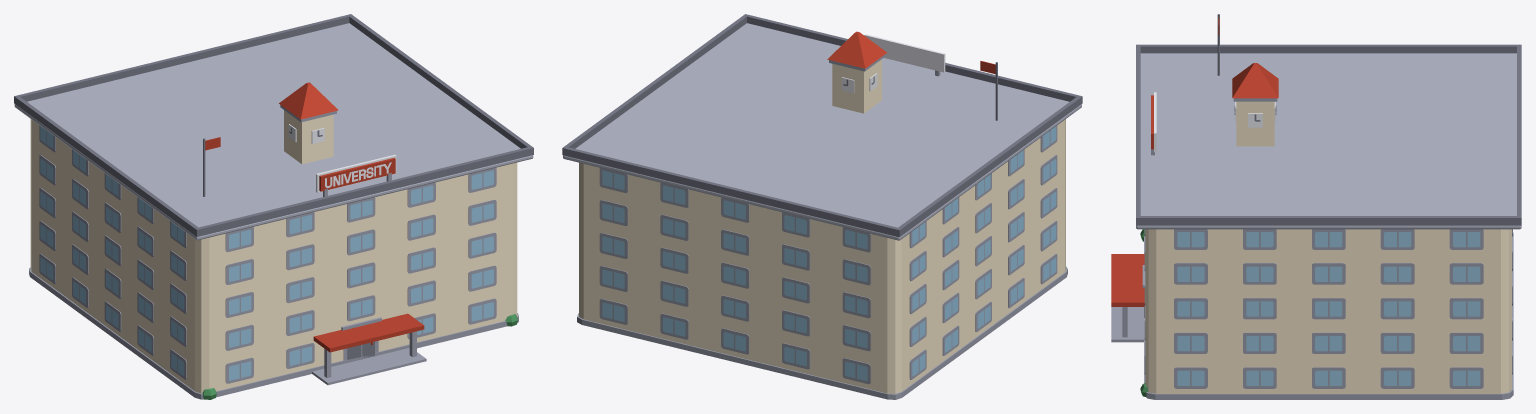
File: university-3x3-5f.glb
3 renders of one model, left to right at view 1: azimuth 30°, elevation 25°; view 2: azimuth 150°, elevation 25°; view 3: azimuth 270°, elevation 25°, orthographic. The views are drawn at different scales.
Parts seen in each view (by area): view 1: university-3x3-5f; view 2: university-3x3-5f; view 3: university-3x3-5f.
Part boxes in pixels (x1=…): university-3x3-5f: x1=14, y1=14, x2=533, y2=399; university-3x3-5f: x1=562, y1=14, x2=1082, y2=399; university-3x3-5f: x1=1111, y1=14, x2=1521, y2=399.
Size of the model in its own units: 3 by 2.04 by 3.
Materials: 1 (1 with a texture image).
